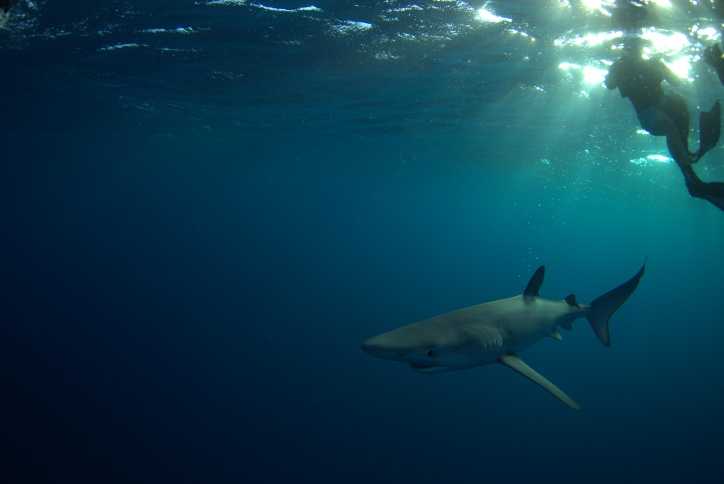Azul: (320, 234, 657, 419)
